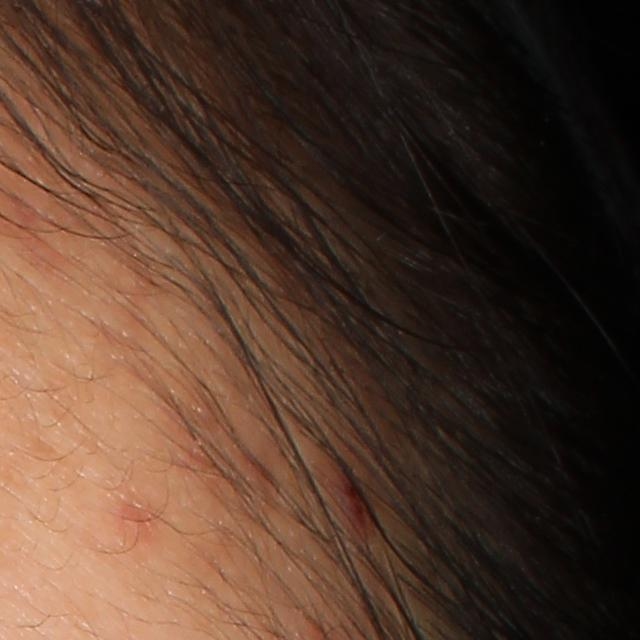papule: (323, 455, 367, 523)
